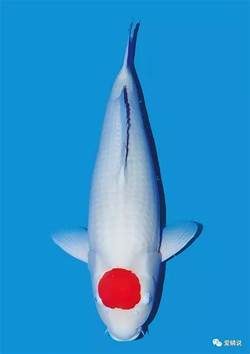sun: (50, 21, 202, 342)
